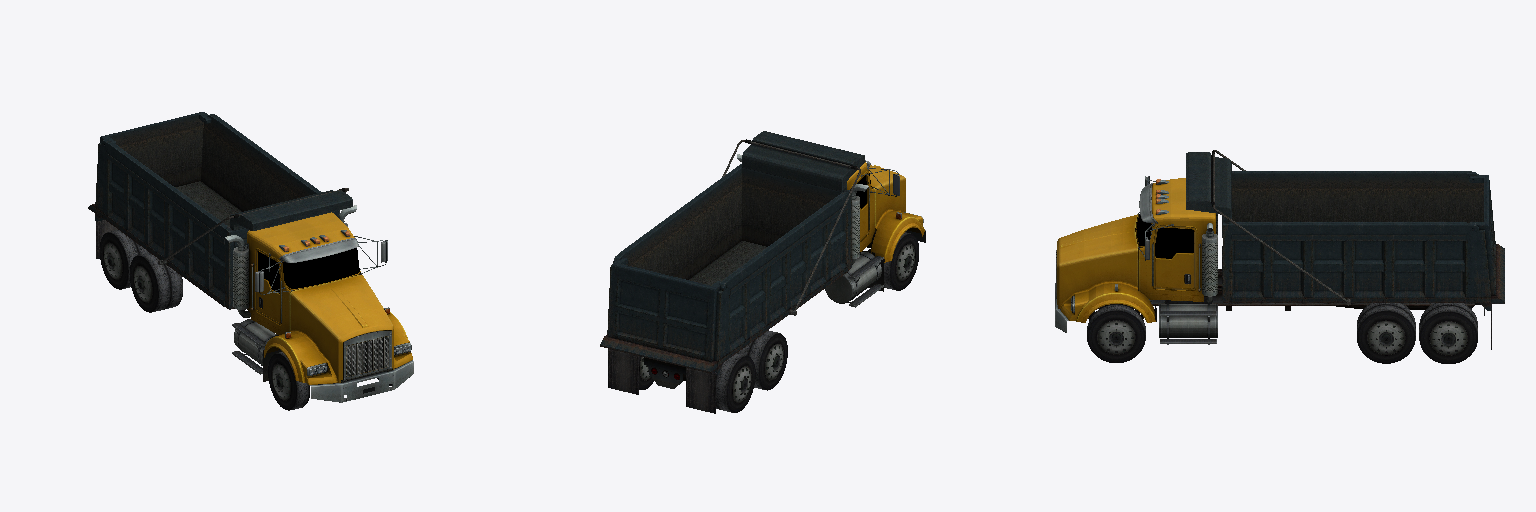
The picture shows the model from 3 angles: view 1: azimuth 30°, elevation 25°; view 2: azimuth 150°, elevation 25°; view 3: azimuth 270°, elevation 25°; orthographic projection.
Visible parts, largest first — view 1: Truck_Mesh.005, Main_Wheels_Mesh.004, Back_Front_Wheel_Mesh.002; view 2: Truck_Mesh.005, Main_Wheels_Mesh.004, Back_Front_Wheel_Mesh.002; view 3: Truck_Mesh.005, Main_Wheels_Mesh.004, Back_Front_Wheel_Mesh.002.
Boxes of the visible parts, <box> form: Truck_Mesh.005: <box>88,112,413,402</box>; Main_Wheels_Mesh.004: <box>100,230,391,410</box>; Back_Front_Wheel_Mesh.002: <box>130,252,182,312</box>; Truck_Mesh.005: <box>600,131,925,413</box>; Main_Wheels_Mesh.004: <box>639,232,918,412</box>; Back_Front_Wheel_Mesh.002: <box>738,330,787,390</box>; Truck_Mesh.005: <box>1055,150,1504,349</box>; Main_Wheels_Mesh.004: <box>1087,303,1477,363</box>; Back_Front_Wheel_Mesh.002: <box>1357,303,1415,363</box>.
Bounding box in the file's own units: 2.63 × 3.02 × 7.74.
Materials: 6 (4 with a texture image).